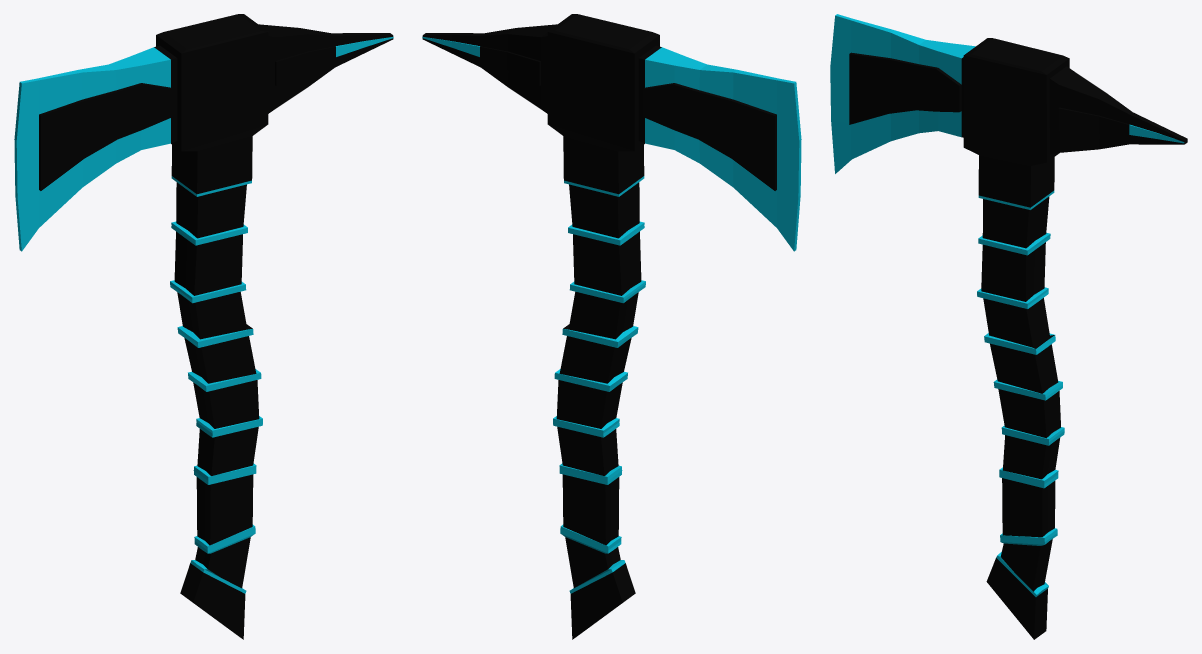
File: Low poly Axe.fbx
3 renders of one model, left to right at view 1: azimuth 30°, elevation 25°; view 2: azimuth 150°, elevation 25°; view 3: azimuth 330°, elevation 25°, orthographic. The views are drawn at different scales.
Parts seen in each view (by area): view 1: Cube; view 2: Cube; view 3: Cube.
Boxes of the visible parts, <box> form: Cube: <box>14,14,393,639</box>; Cube: <box>422,14,801,639</box>; Cube: <box>830,14,1187,639</box>.
Bounding box in the file's own units: 139 × 216 × 16.33.
